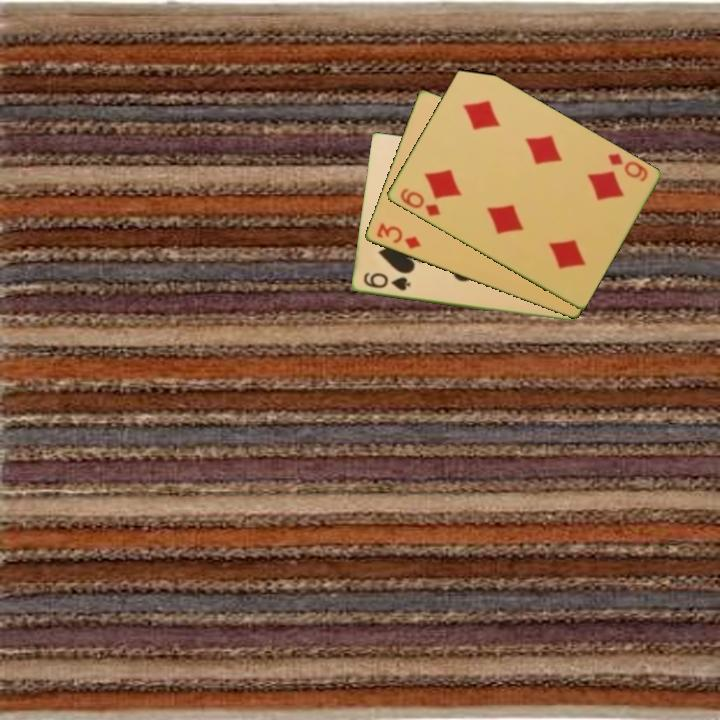3d: (373, 219, 423, 252)
6d: (396, 184, 443, 220), (604, 150, 651, 185)
6s: (360, 269, 413, 294)
